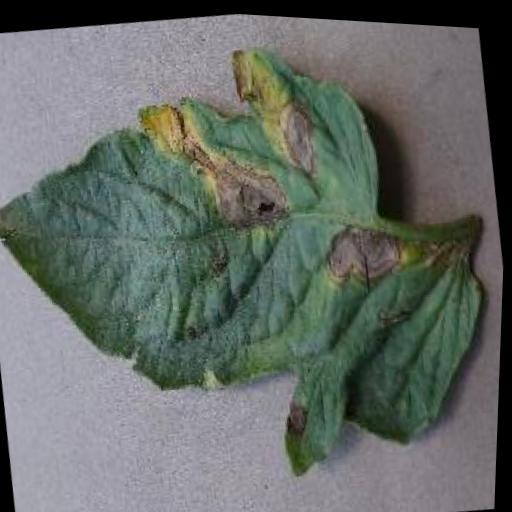Early Blight: (0, 3, 512, 512)
